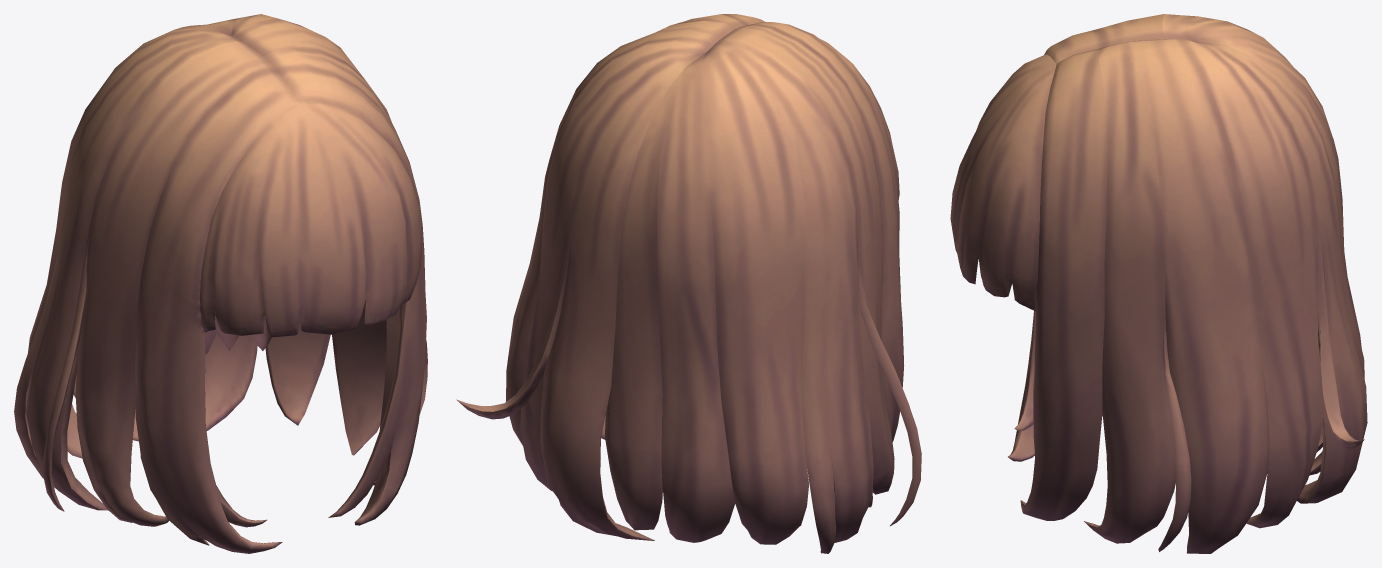
The model's file is hair_08.glb.
3 renders of one model, left to right at view 1: azimuth 30°, elevation 25°; view 2: azimuth 150°, elevation 25°; view 3: azimuth 270°, elevation 25°, orthographic.
Parts seen in each view (by area): view 1: hair8-hair_08; view 2: hair8-hair_08; view 3: hair8-hair_08.
Part boxes in pixels (<box>): hair8-hair_08: <box>14,14,427,553</box>; hair8-hair_08: <box>456,14,921,553</box>; hair8-hair_08: <box>950,14,1367,553</box>.
Size of the model in its own units: 0.2827 by 0.314 by 0.2578.
1 material, 1 textured.
